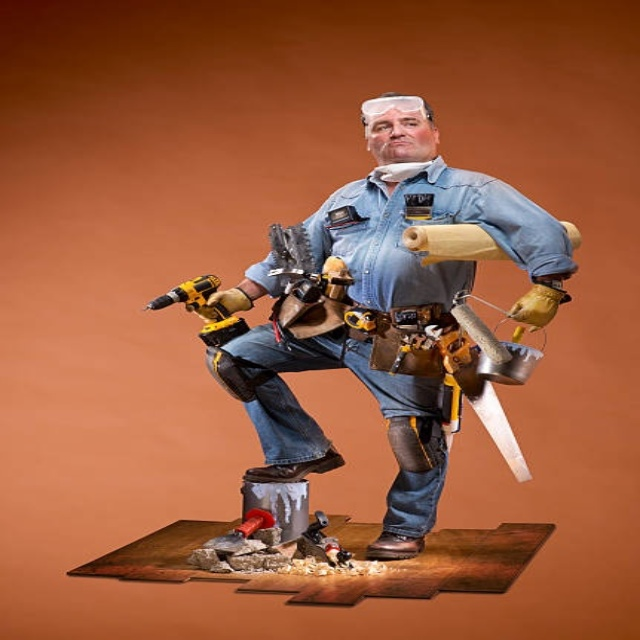Guantes: (507, 283, 568, 329), (200, 286, 254, 322)
Sin_gafas: (368, 115, 425, 133)
Sin_mascara: (377, 138, 417, 155)
